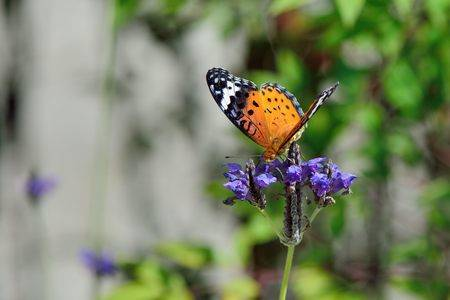Argyreus hyperbius: (200, 61, 339, 175)
butterfly: (202, 63, 341, 177)
